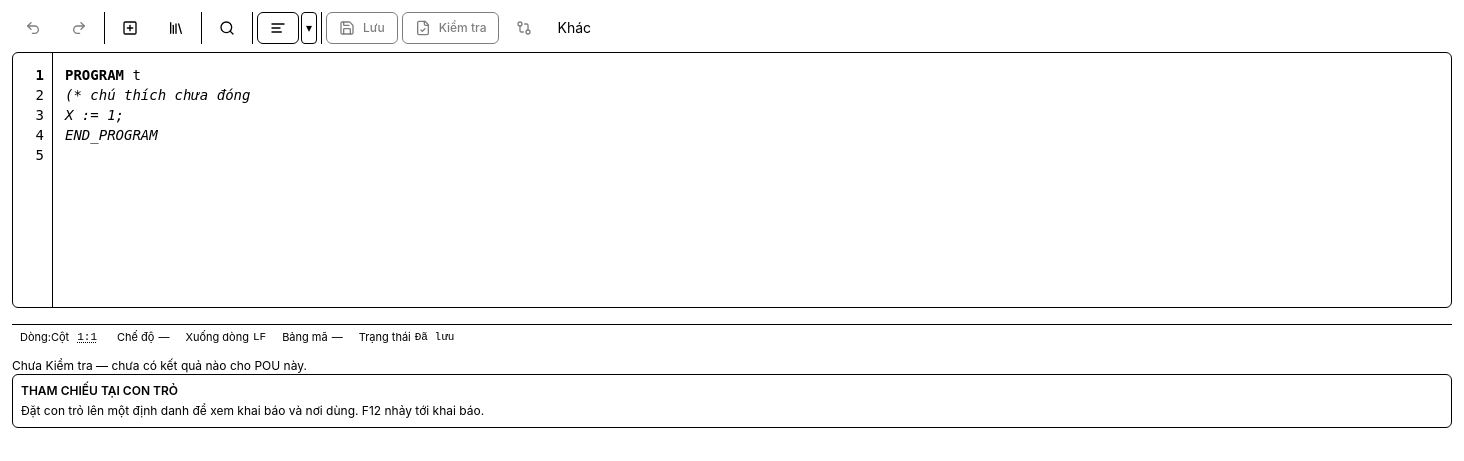
Test: DEV-PROG-019 — nút Định dạng trong trình soạn thảo › nguồn không phân tích được ⇒ KHÔNG đổi buffer và NÓI RA lý do
Step 1. Click the button named "Định dạng" → (278, 28), box [257,12,299,44]
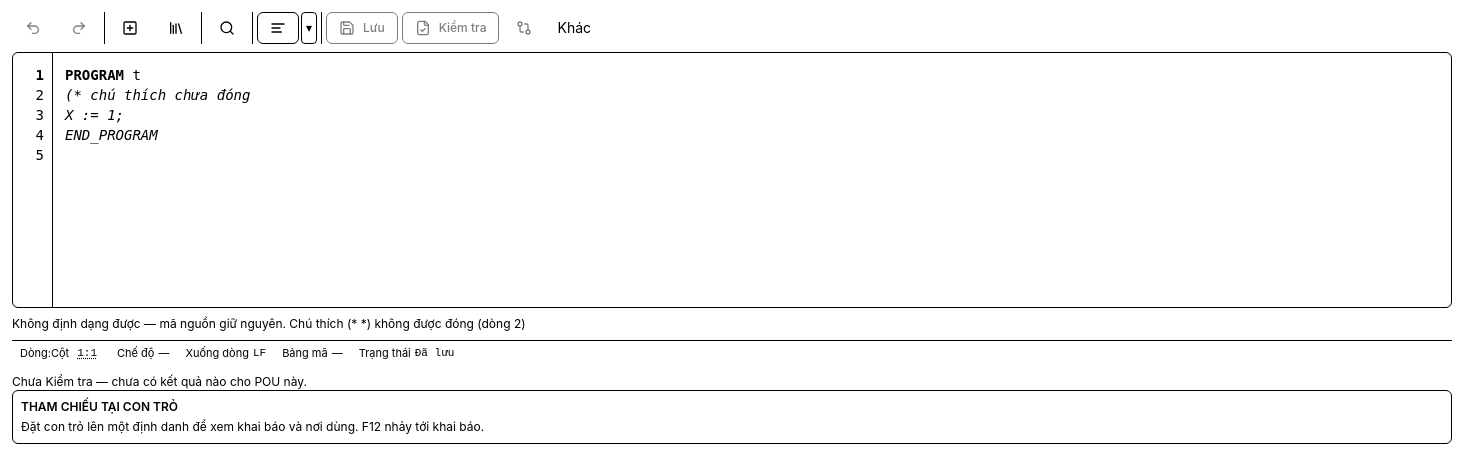
expect the message shows "Không định dạng được": met, box [12,316,526,331]
expect the message shows "không được đóng": met, box [12,316,526,331]
